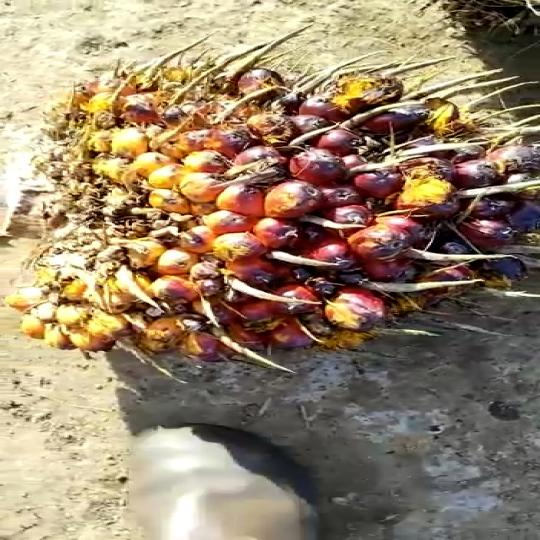masak: (10, 51, 540, 389)
